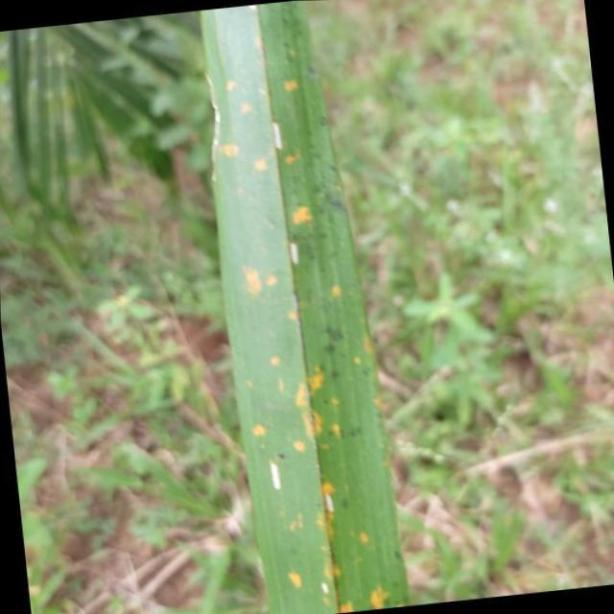Kalium: (202, 5, 412, 612)
